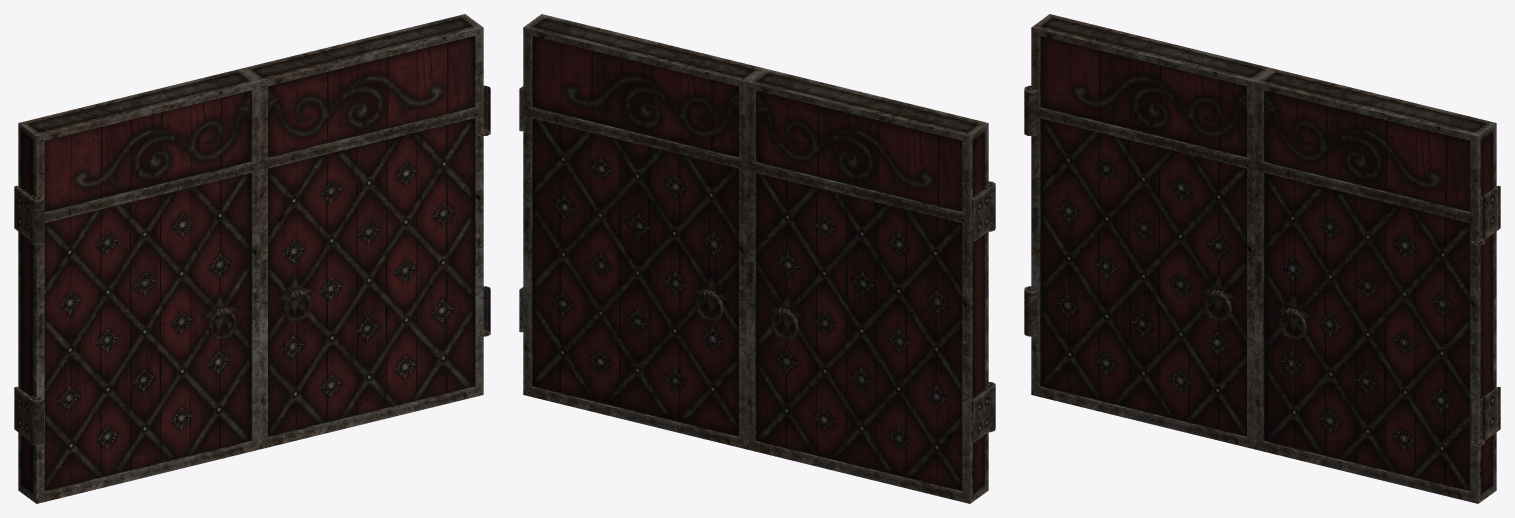
Rendered from level_wood_double.dae.
3 renders of one model, left to right at view 1: azimuth 30°, elevation 25°; view 2: azimuth 150°, elevation 25°; view 3: azimuth 330°, elevation 25°, orthographic.
Parts seen in each view (by area): view 1: polySurface1; view 2: polySurface1; view 3: polySurface1.
Part boxes in pixels (bbox=[...]): polySurface1: bbox=[14, 14, 490, 503]; polySurface1: bbox=[519, 14, 995, 503]; polySurface1: bbox=[1024, 14, 1500, 503].
Bounding box in the file's own units: 3.6 × 2.75 × 0.3162.
